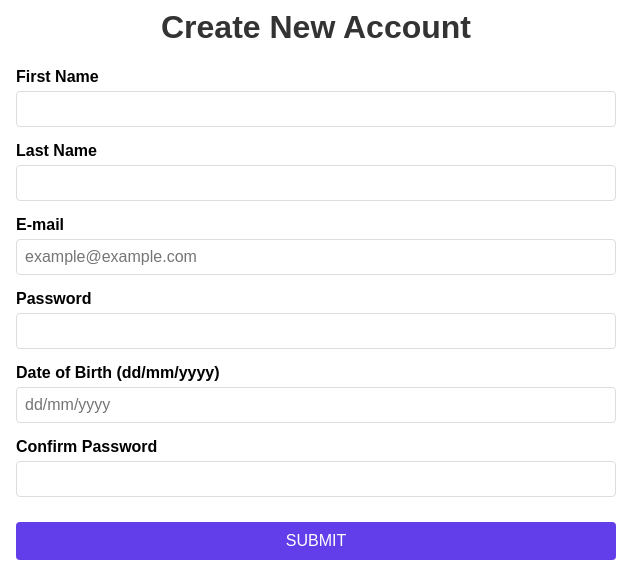
Scenario: Form validation tests › form submits successfully with valid data
This screenshot has width=633, height=577.
Type "Jane" into the field labelled "First Name" at (316, 109), box [16,91,616,127]
Type "Smith" into the field labelled "Last Name" at (316, 183), box [16,165,616,201]
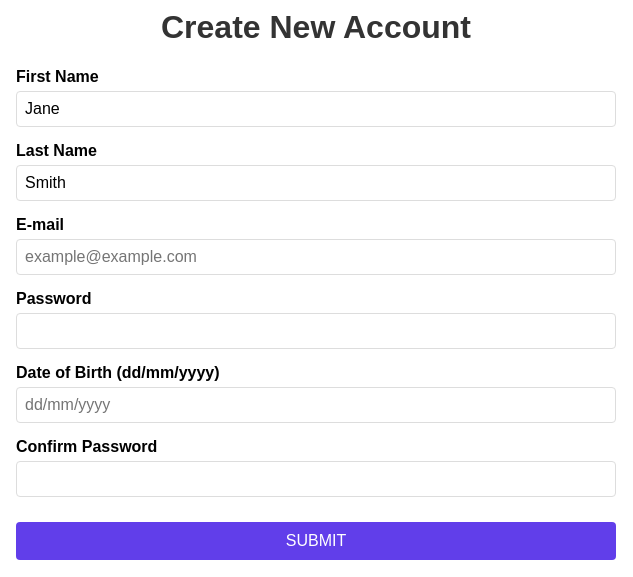
Type "jane.smith@example.com" into the field labelled "E-mail" at (316, 257), box [16,239,616,275]
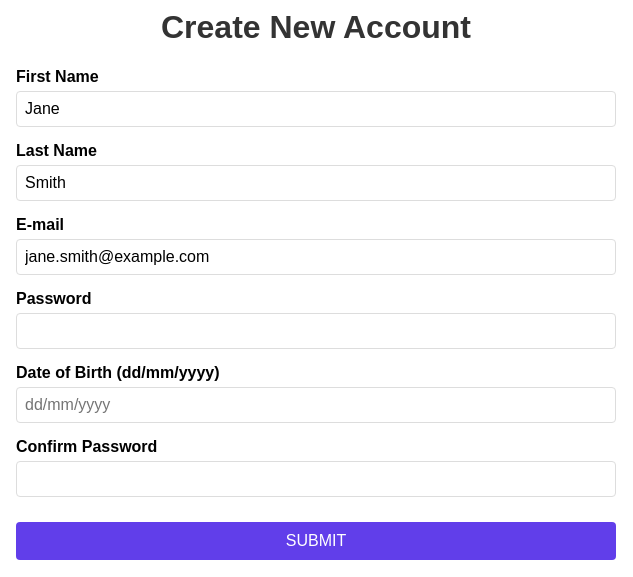
Type "Password@123" into the password field labelled "Password" at (316, 331), box [16,313,616,349]
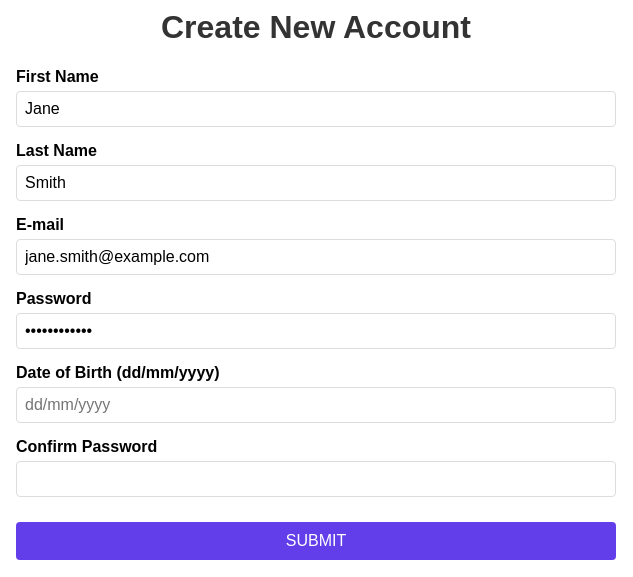
Type "Password@123" into the password field labelled "Confirm Password" at (316, 479), box [16,461,616,497]
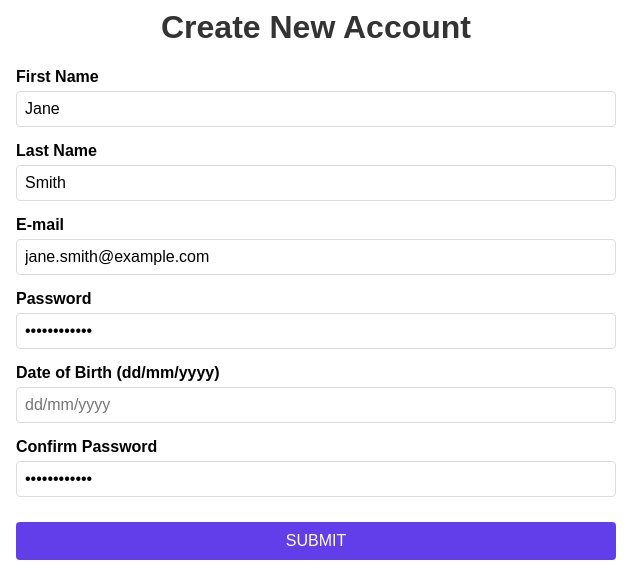
Type "01/01/1990" into the field labelled "Date of Birth (dd/mm/yyyy)" at (316, 405), box [16,387,616,423]
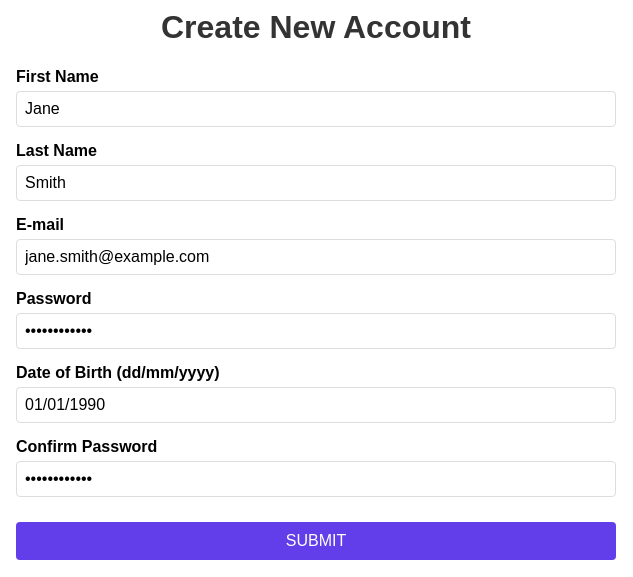
Click the button "SUBMIT" at (316, 541), box [16,522,616,560]
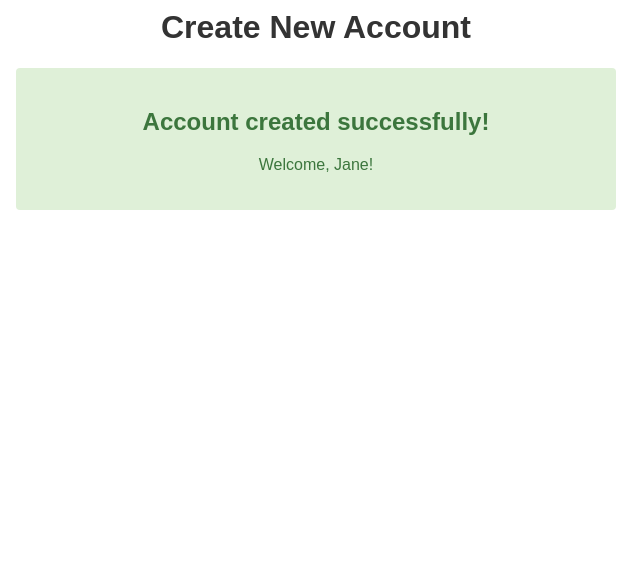
Check: the heading "Account created successfully!" is shown, box [143,108,489,135]
